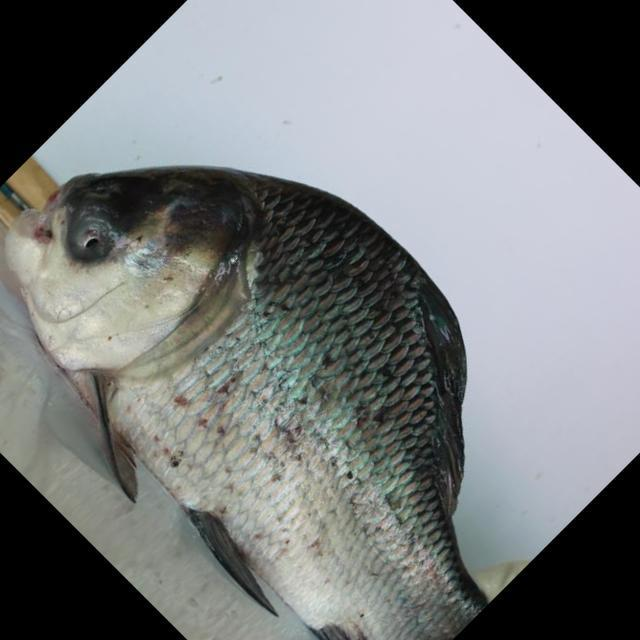Catla: (6, 169, 531, 640)
